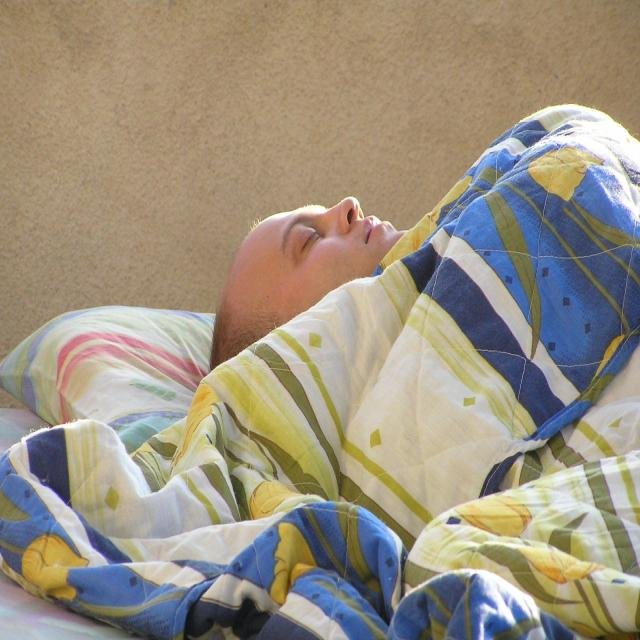blanket: (1, 106, 640, 638)
